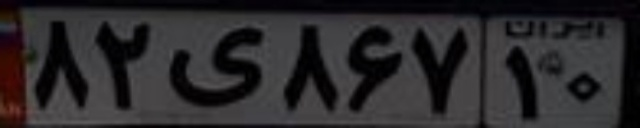0: (559, 69, 610, 104)
1: (500, 43, 541, 120)
2: (92, 20, 155, 111)
6: (345, 23, 404, 114)
7: (408, 24, 477, 114)
8: (34, 20, 92, 111), (282, 23, 339, 114)
he: (167, 24, 266, 109)
